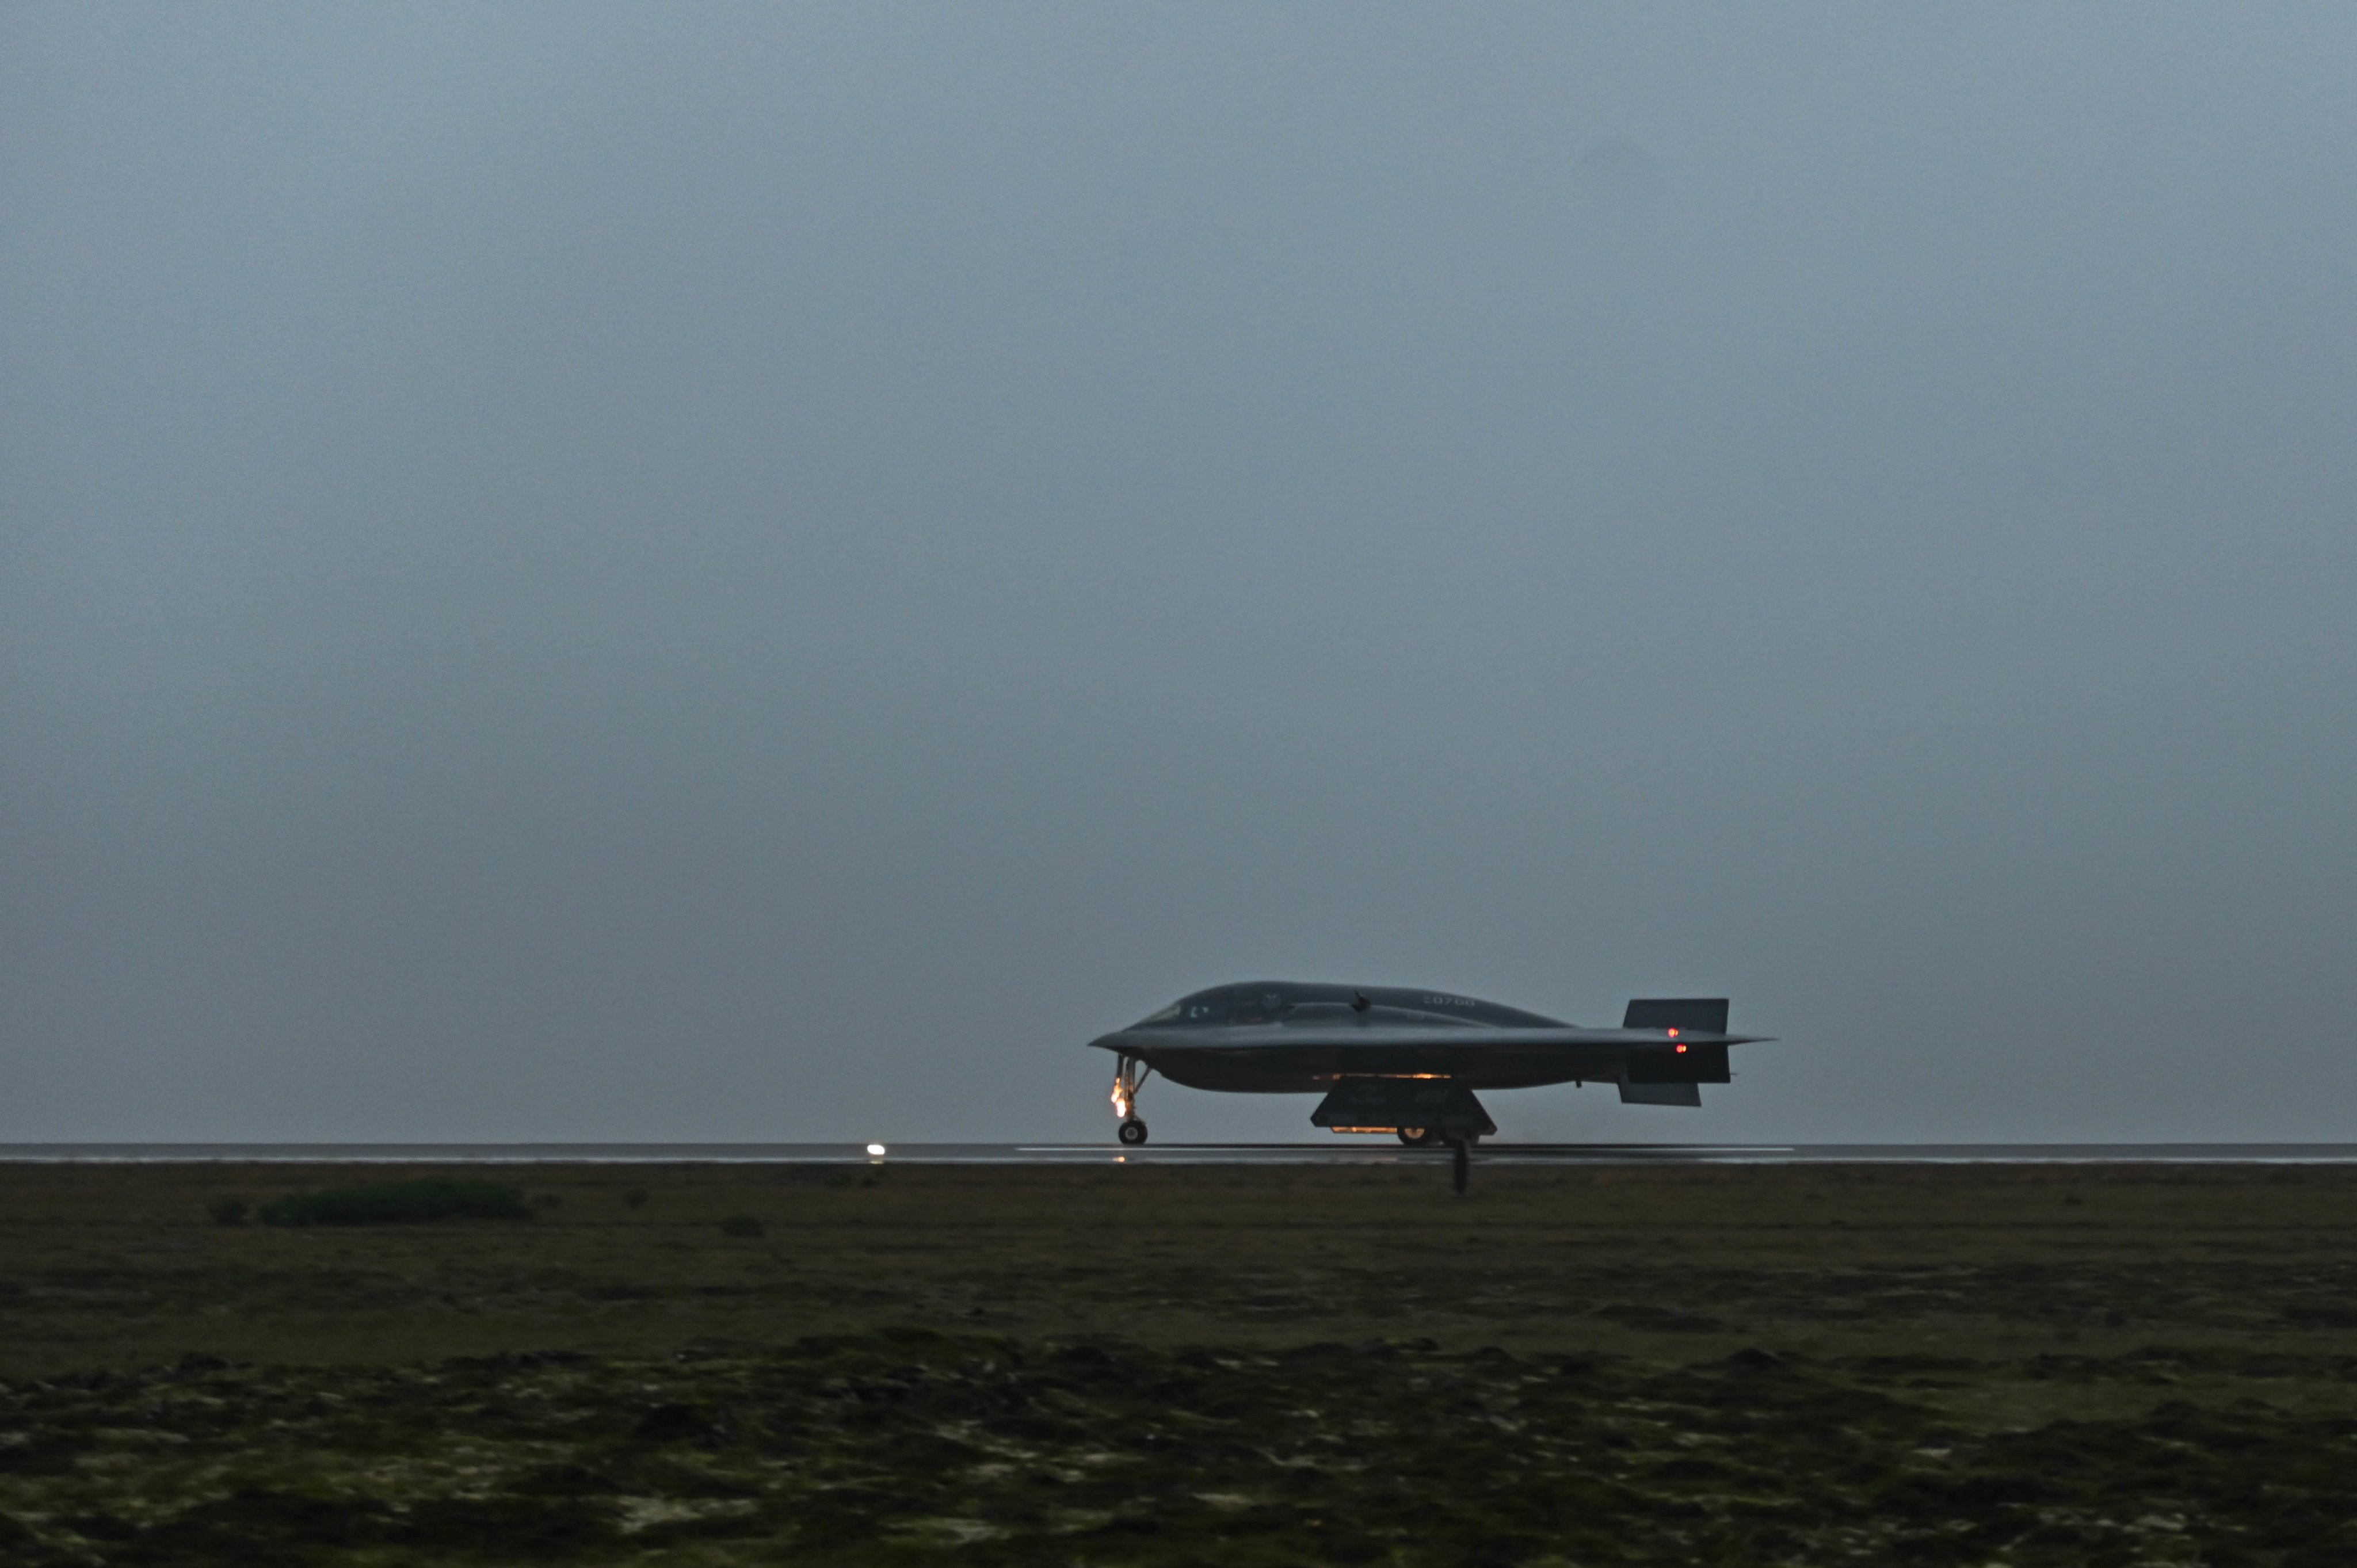B2: (1087, 980, 1783, 1148)
